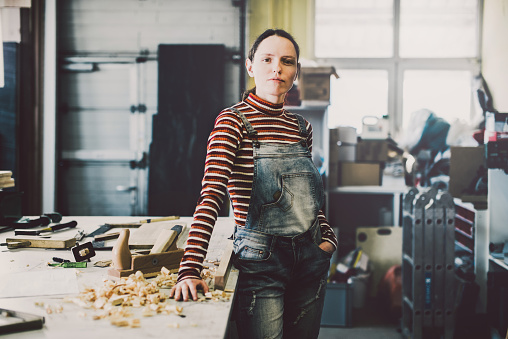em pe: (180, 26, 347, 339)
